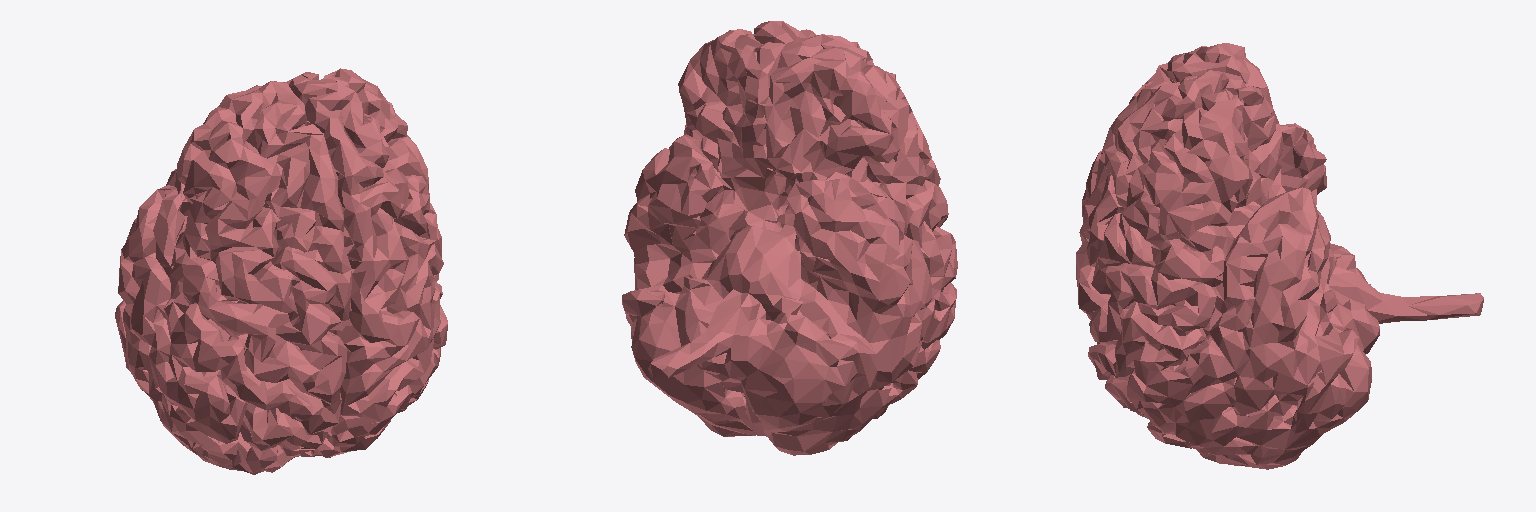
The model's file is humanbrain.obj.
3 views of the same model, side by side, from view 1: azimuth 30°, elevation 25°; view 2: azimuth 150°, elevation 25°; view 3: azimuth 270°, elevation 25° (orthographic).
Visible parts, largest first — view 1: brain_grp1; view 2: brain_grp1; view 3: brain_grp1.
Part boxes in pixels (x1,y1,x2,y2): brain_grp1: (115, 68, 447, 474); brain_grp1: (622, 21, 957, 455); brain_grp1: (1076, 43, 1483, 469).
Size of the model in its own units: 139 by 185 by 175.